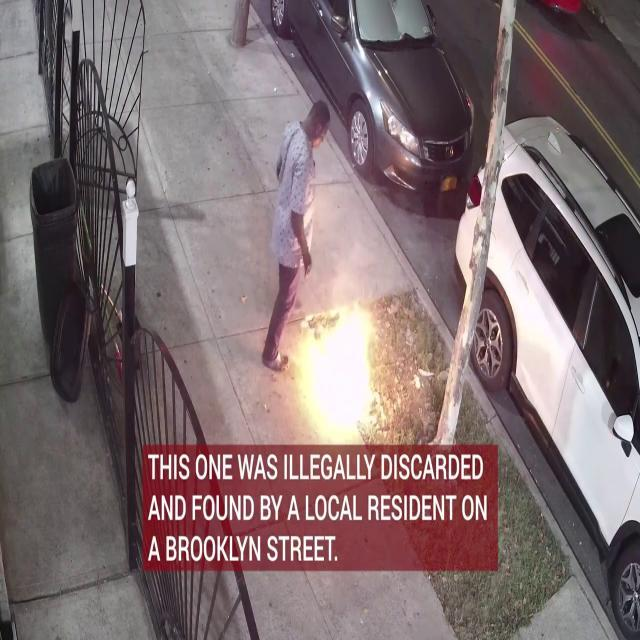Fire: (290, 294, 392, 444)
